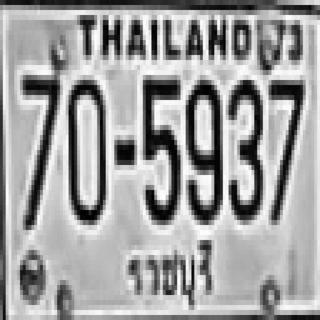N00: (66, 75, 106, 220)
N03: (226, 75, 260, 220)
N05: (140, 75, 177, 220)
N07: (20, 70, 60, 225), (269, 75, 303, 220)
N09: (183, 75, 220, 220)
P52: (122, 236, 218, 311)
